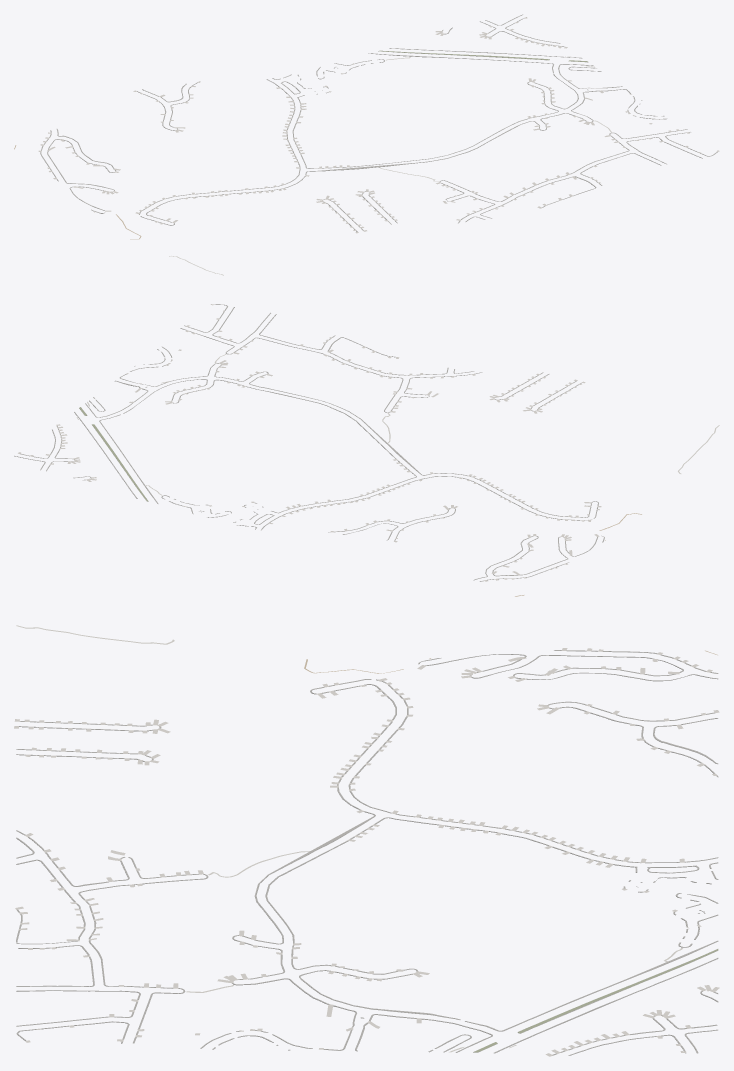
Rendered from ground_r6_c6.glb.
3 views of the same model, one above another, from view 1: azimuth 30°, elevation 25°; view 2: azimuth 150°, elevation 25°; view 3: azimuth 270°, elevation 25° (orthographic). The views are drawn at different scales.
Visible parts, largest first — view 1: sidewalks, driveways; view 2: sidewalks, driveways; view 3: sidewalks, driveways, paths.
Part boxes in pixels (x1,y1,x2,y2): sidewalks: (40, 14, 717, 231); driveways: (38, 17, 719, 233); sidewalks: (14, 304, 604, 581); driveways: (18, 304, 601, 581); sidewalks: (16, 650, 718, 1055); driveways: (14, 648, 719, 1056); paths: (16, 625, 717, 1052).
Size of the model in its own units: 1133 by 77.22 by 792.
